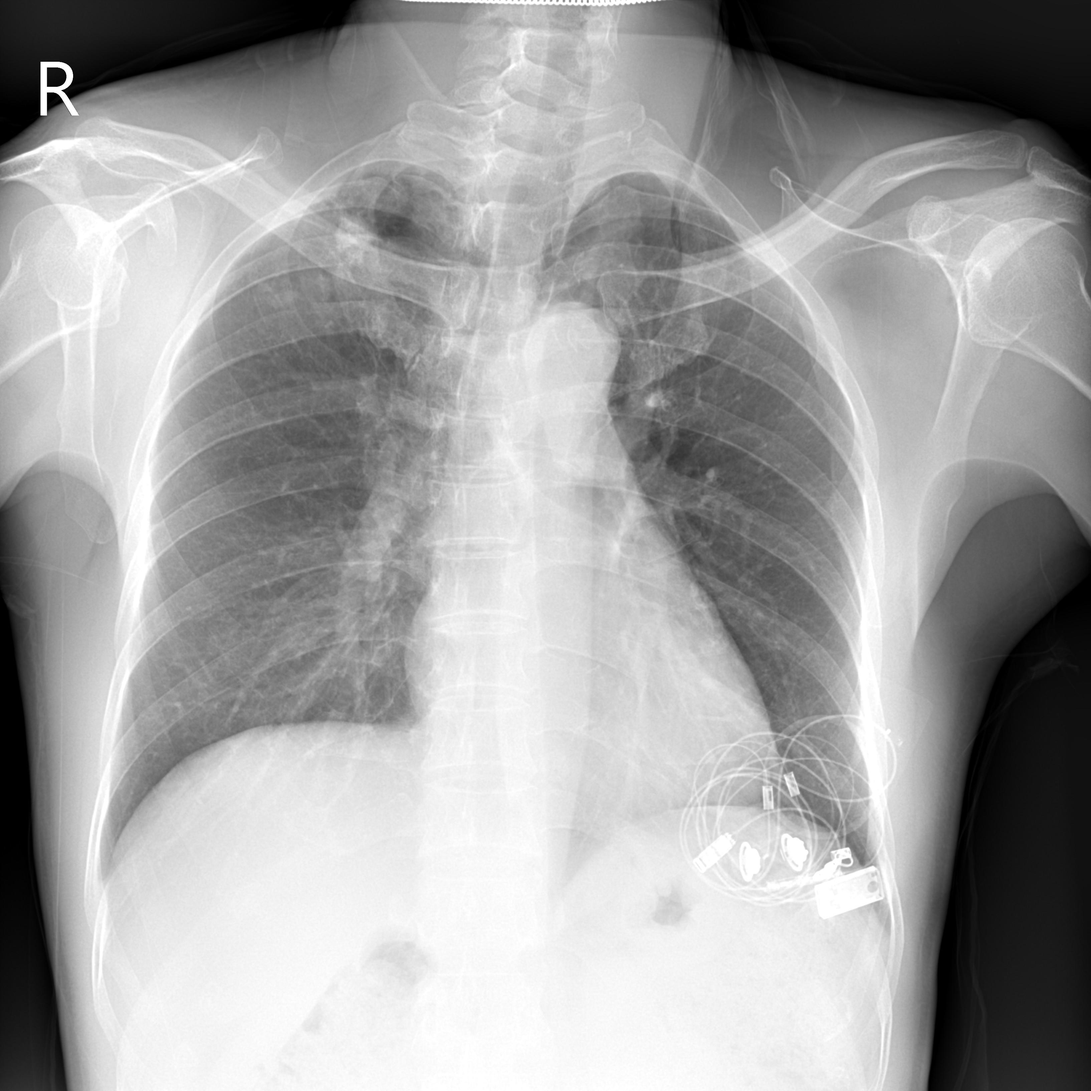Aortic enlargement: (515, 301, 622, 403)
Cardiomegaly: (404, 631, 790, 822)
Pleural thickening: (301, 161, 467, 214)
